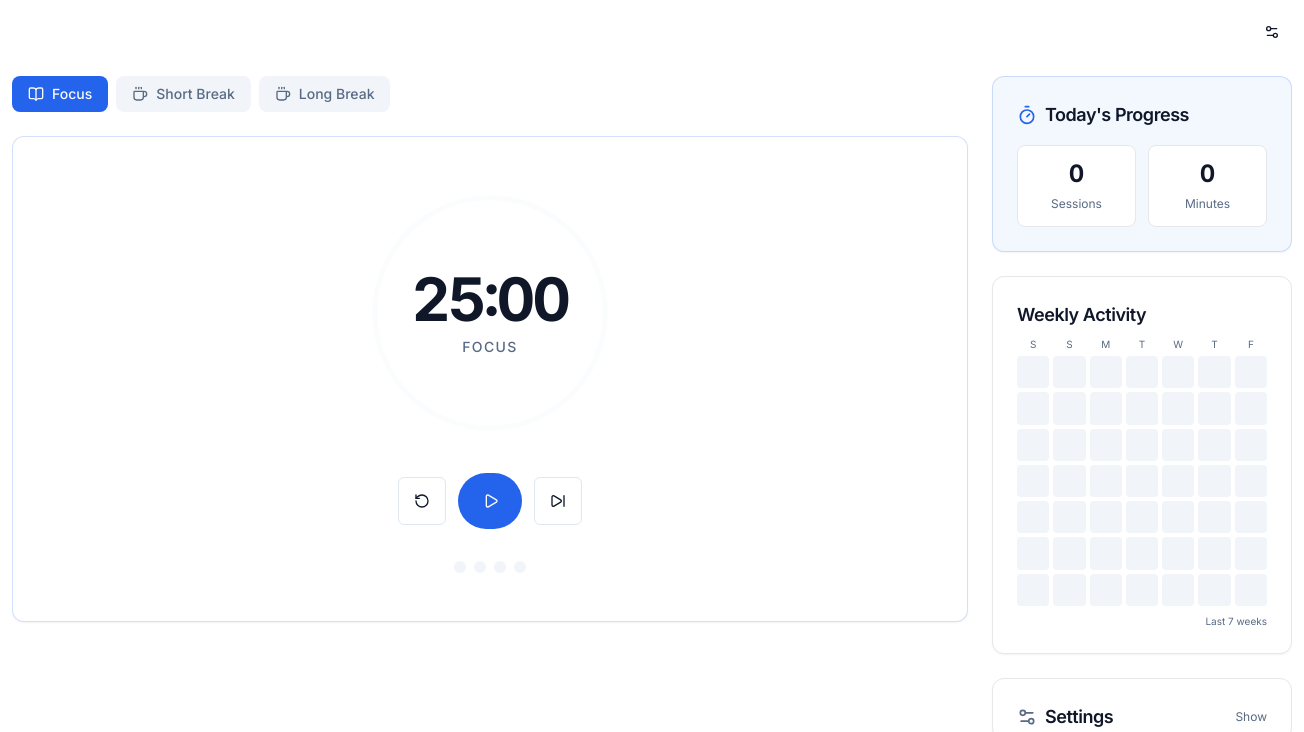
Test: StudyTimer › skips from a focus session into the next break
Click the button named "skip to next session".
click(558, 501)  # box x1=534 y1=477 x2=582 y2=525
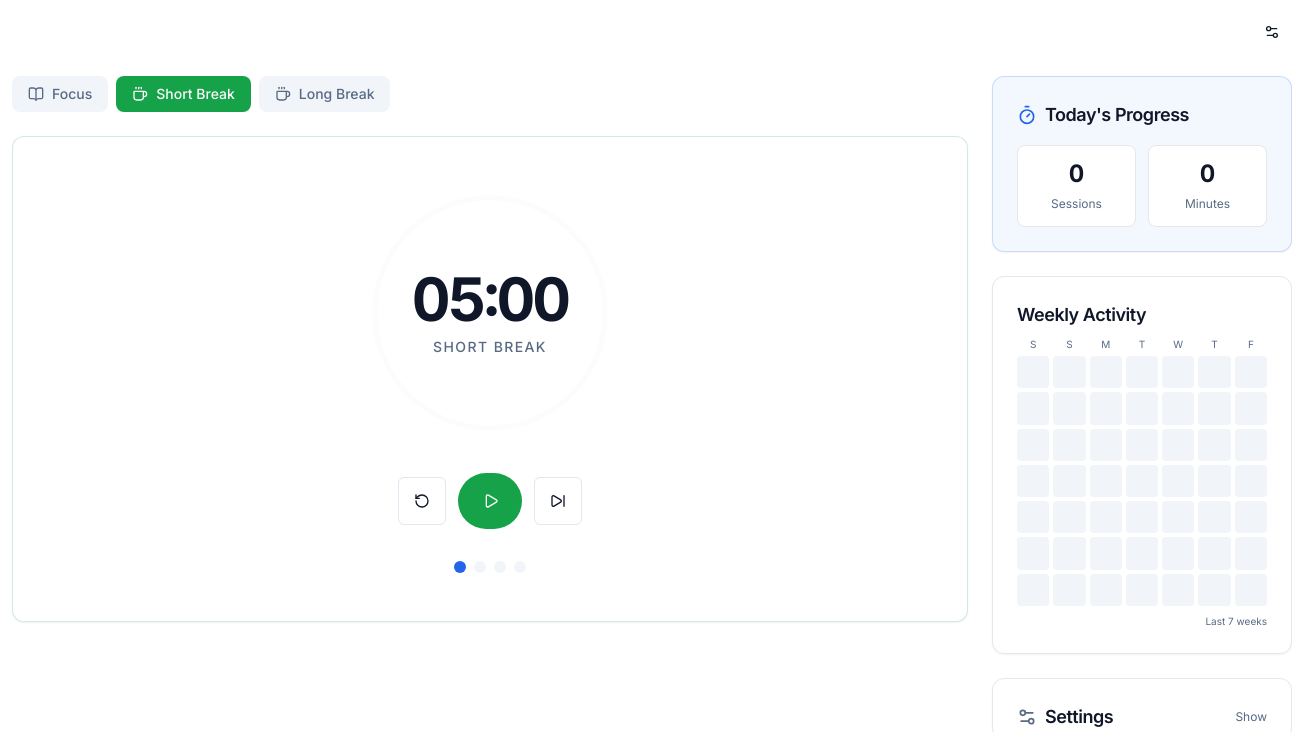
Expected: the text "05:00" is shown, x1=412 y1=269 x2=568 y2=329
